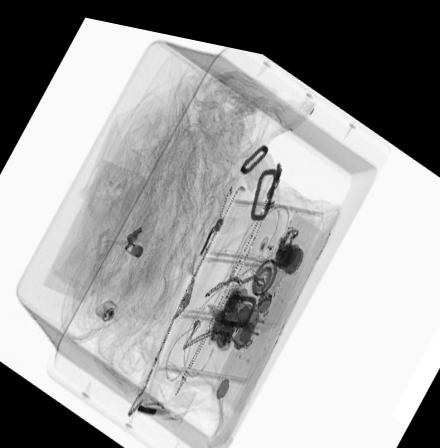Lighter: (204, 297, 242, 340)
